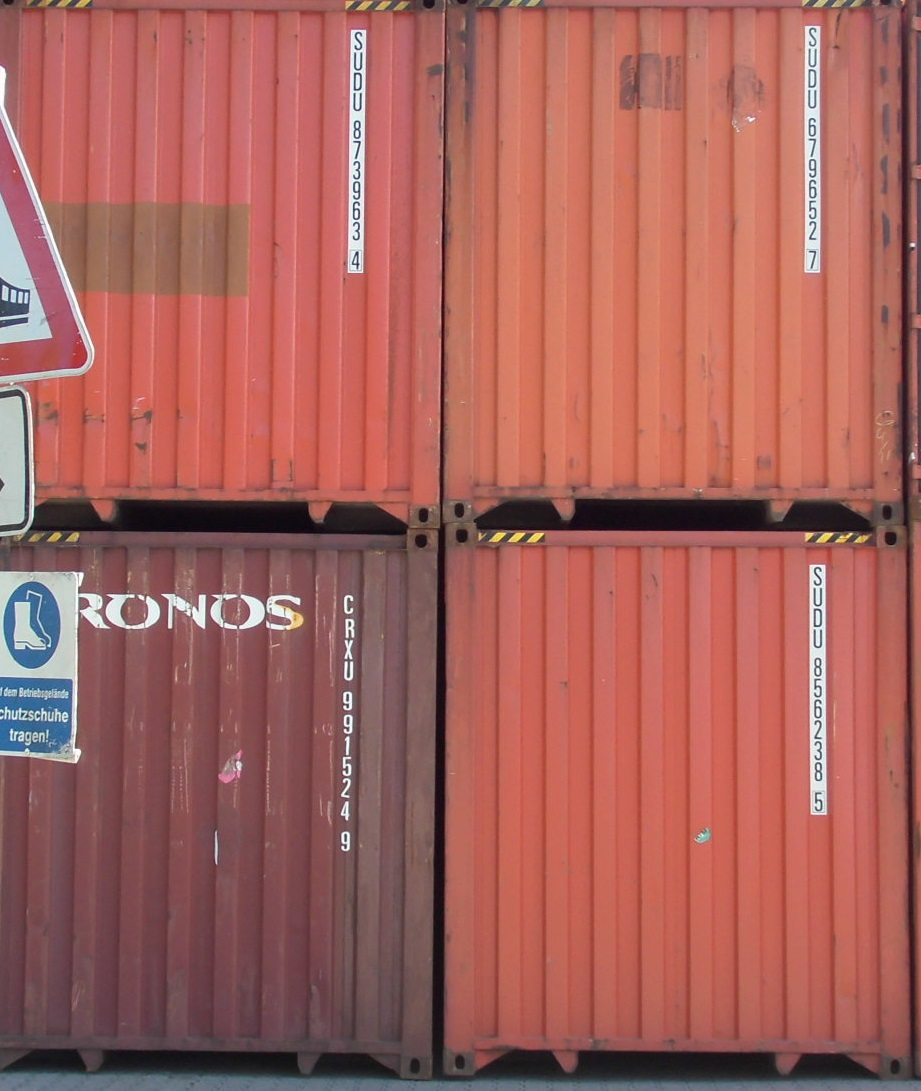container_no_door: (442, 526, 906, 1075), (445, 1, 905, 526), (1, 527, 429, 1080), (1, 1, 444, 522)
